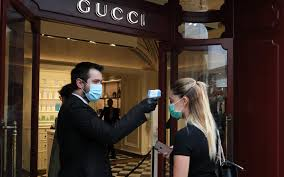Bad: (57, 61, 225, 177)
